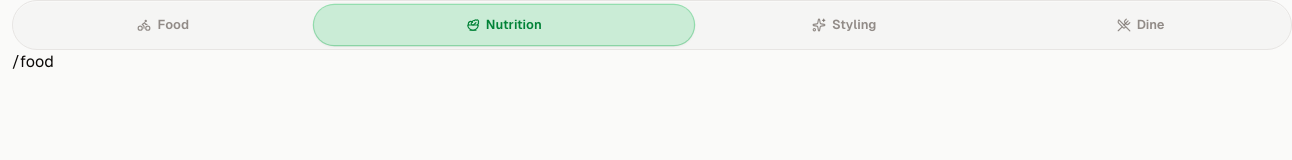
Test: VerticalNav Nutrition/Style switch guard › switches directly without prompt when there is no clearable source state
Click the link "Styling" at x=844, y=25, box top-left (812, 17), bottom-right (876, 32)
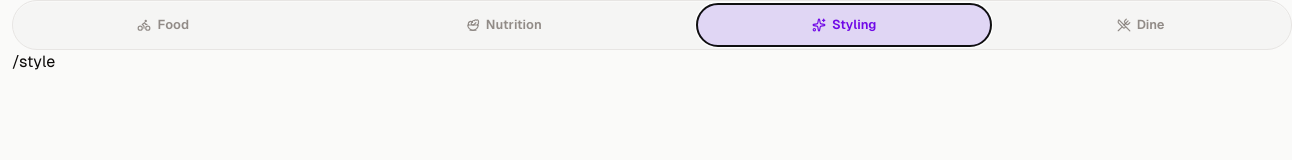
Expected: the text with test id "pathname" reads "/style", top-left (12, 52), bottom-right (55, 71)
